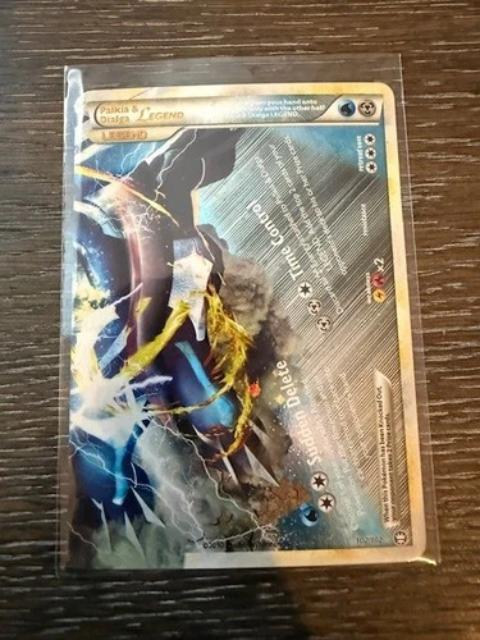Card: (59, 78, 432, 575)
Name: (93, 98, 190, 128)
